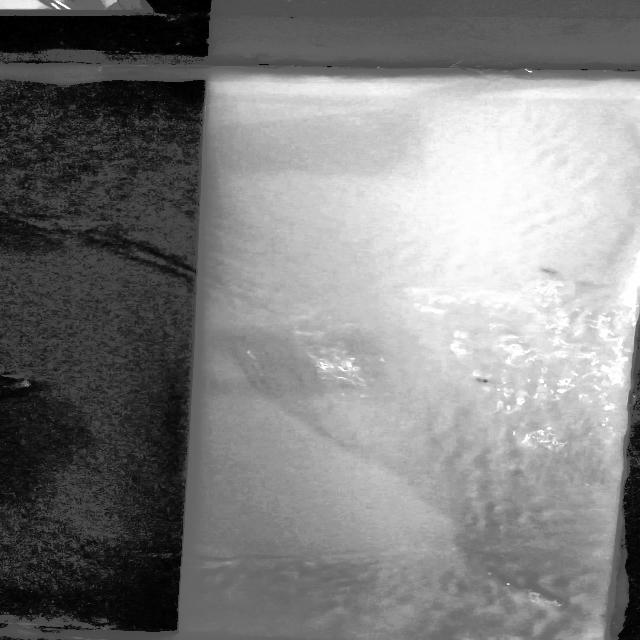shrimp: (464, 371, 504, 388), (542, 262, 577, 279)
